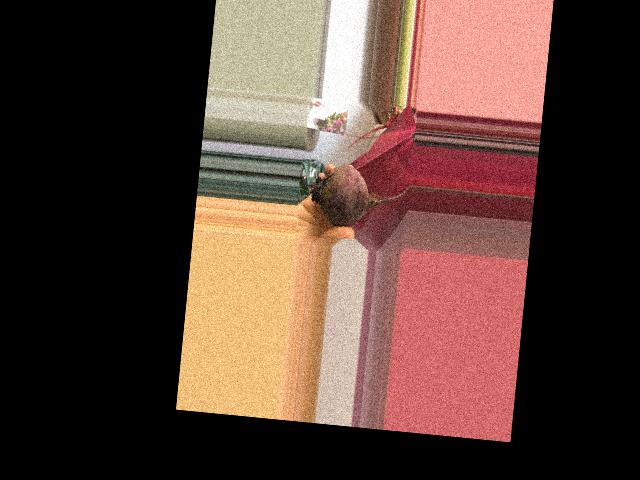beet: (295, 160, 411, 232)
